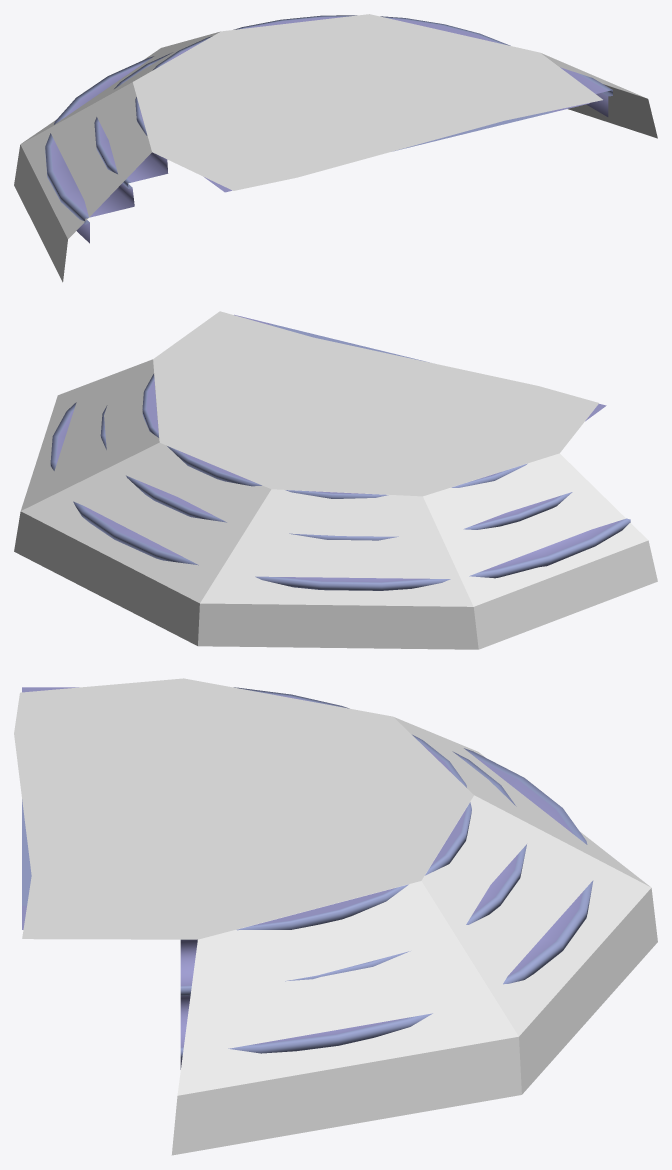
The model's file is Stairs_HalfRound.fbx.
3 renders of one model, top to bottom at view 1: azimuth 30°, elevation 25°; view 2: azimuth 150°, elevation 25°; view 3: azimuth 270°, elevation 25°, orthographic. The views are drawn at different scales.
Visible parts, largest first — view 1: StairsFullRoundColMesh, Stairs_Round_Hemi; view 2: StairsFullRoundColMesh, Stairs_Round_Hemi; view 3: StairsFullRoundColMesh, Stairs_Round_Hemi.
Boxes of the visible parts, box(x1,y1,x2,y2) form: StairsFullRoundColMesh: box(14, 14, 657, 282); Stairs_Round_Hemi: box(45, 15, 612, 243); StairsFullRoundColMesh: box(14, 311, 657, 649); Stairs_Round_Hemi: box(50, 314, 630, 590); StairsFullRoundColMesh: box(14, 678, 657, 1155); Stairs_Round_Hemi: box(22, 687, 593, 1069).
Bounding box in the file's own units: 646 × 110 × 445.
